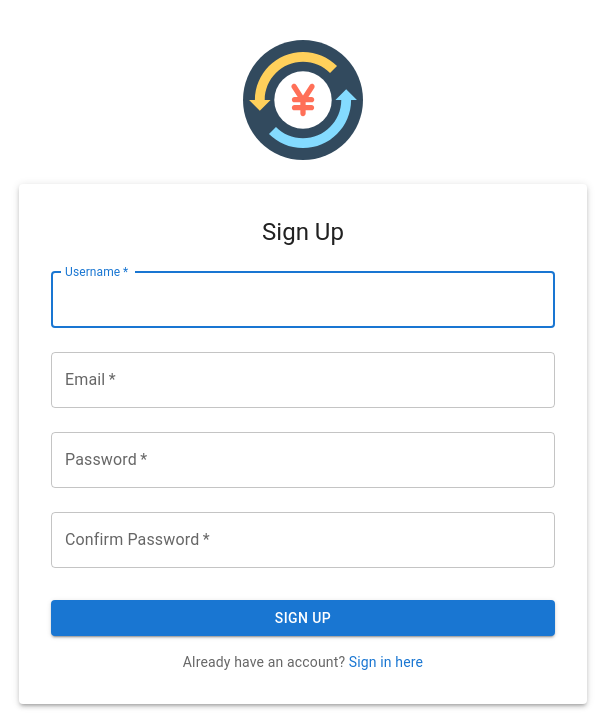
Test: RegisterPage › shows validation error for empty username
Step 1. Click the button "Sign Up" → (303,618), box left=51, top=600, right=555, bottom=636
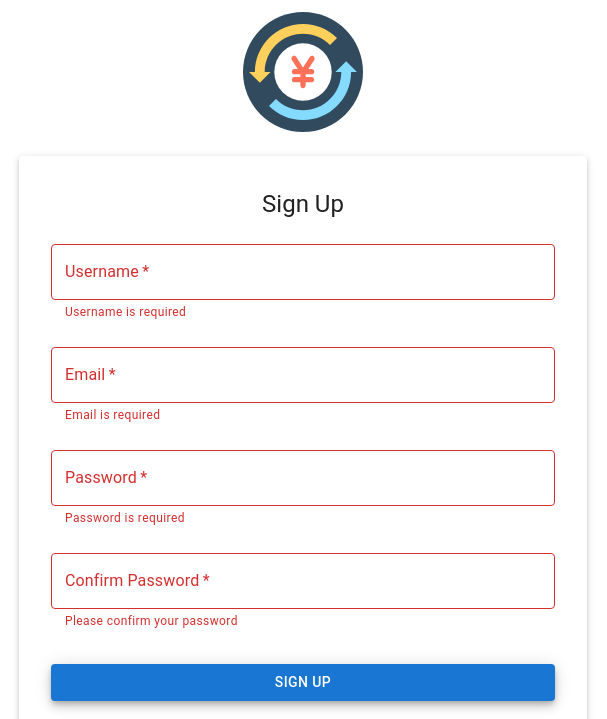
Check: the text "Username is required" is shown, box left=65, top=305, right=186, bottom=319
